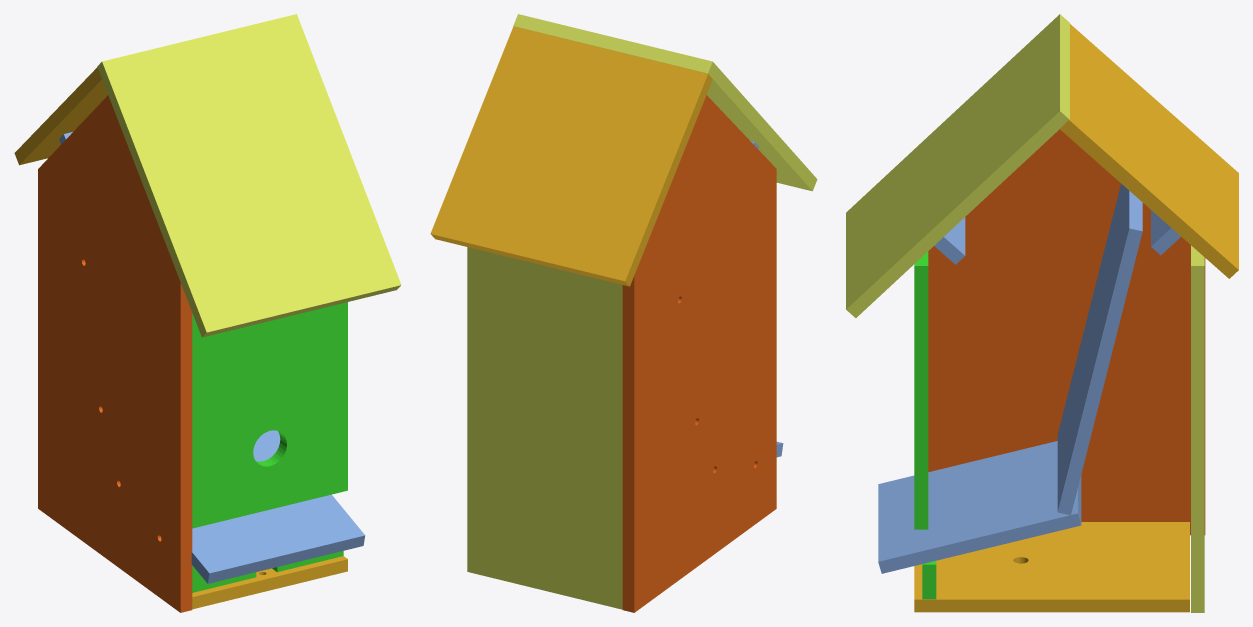
Rendered from birdhouse3D.glb.
3 views of the same model, side by side, from view 1: azimuth 30°, elevation 25°; view 2: azimuth 150°, elevation 25°; view 3: azimuth 270°, elevation 25° (orthographic). The views are drawn at different scales.
Visible parts, largest first — view 1: sidewall, roofbacklatch.002, frontwall, silofloor, roofbacklatch.003, floor, frontlatch; view 2: sidewall, backwall, roofbacklatch.003, roofbacklatch.002; view 3: sidewall, roofbacklatch.002, floor, roofbacklatch.003, silofloor, siloback, backwall, frontwall, roofbacklatch.001, roofbacklatch.005, frontlatch.
Boxes of the visible parts, x1,y1,x2,y2 form: sidewall: [38, 95, 192, 612]; roofbacklatch.002: [97, 14, 401, 337]; frontwall: [192, 302, 347, 528]; silofloor: [191, 430, 365, 583]; roofbacklatch.003: [14, 67, 107, 165]; floor: [192, 556, 347, 609]; frontlatch: [192, 551, 343, 592]; sidewall: [622, 95, 776, 612]; backwall: [467, 247, 622, 609]; roofbacklatch.003: [430, 26, 712, 286]; roofbacklatch.002: [513, 14, 817, 191]; sidewall: [928, 129, 1205, 535]; roofbacklatch.002: [846, 14, 1069, 317]; floor: [914, 522, 1189, 612]; roofbacklatch.003: [1059, 24, 1238, 278]; silofloor: [878, 441, 1081, 573]; siloback: [1057, 183, 1142, 515]; backwall: [1191, 245, 1204, 612]; frontwall: [914, 251, 928, 529]; roofbacklatch.001: [934, 217, 965, 264]; roofbacklatch.005: [1151, 210, 1180, 255]; frontlatch: [922, 561, 936, 599].
Size of the model in its own units: 15 by 36.88 by 25.66.
